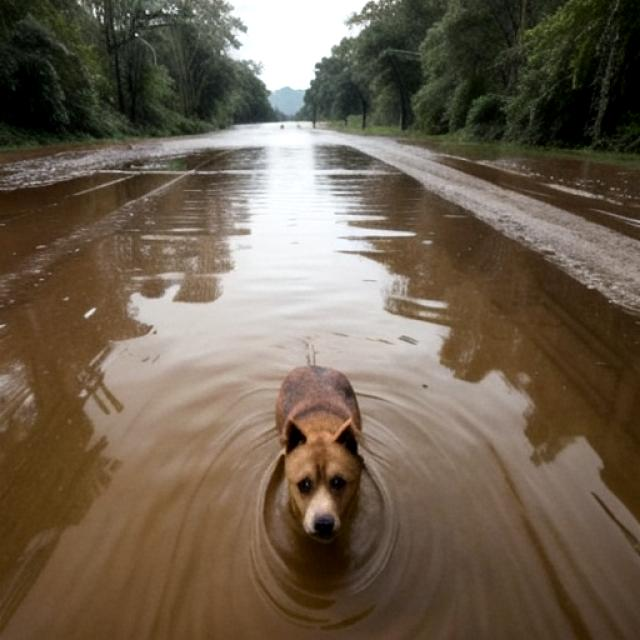dog: (266, 365, 384, 547)
